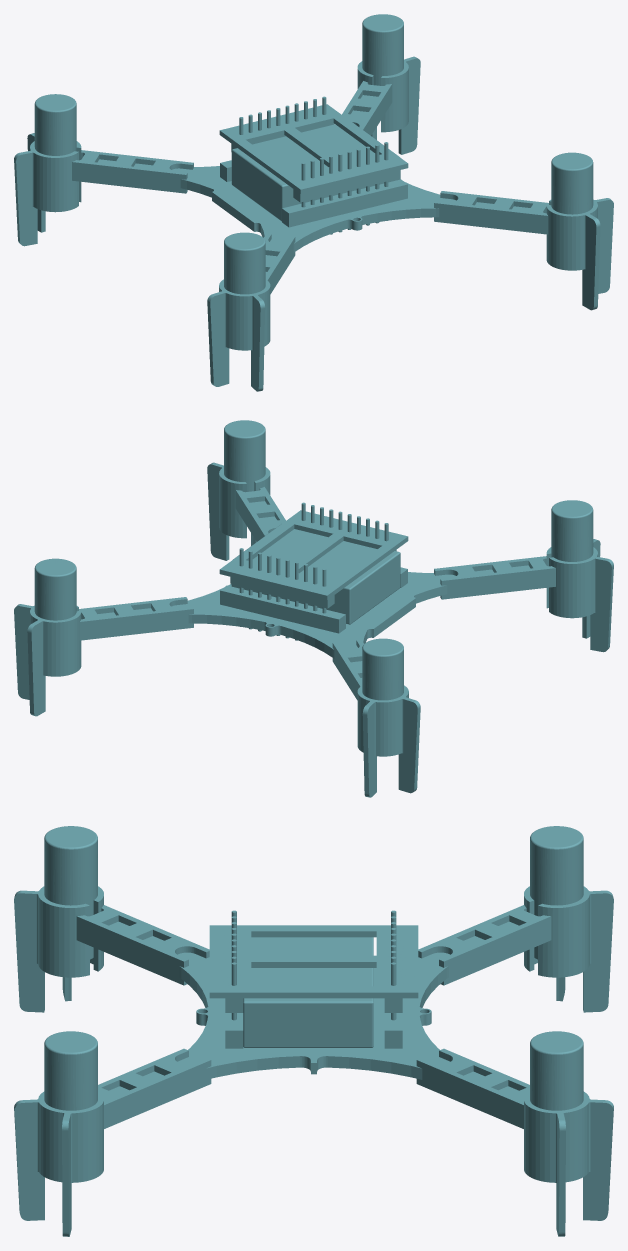
The model's file is crazyflie_base.dae.
The picture shows the model from 3 angles, top to bottom: view 1: azimuth 30°, elevation 25°; view 2: azimuth 150°, elevation 25°; view 3: azimuth 270°, elevation 25°; orthographic projection. The views are drawn at different scales.
Visible parts, largest first — view 1: Crazyflie_assembly1; view 2: Crazyflie_assembly1; view 3: Crazyflie_assembly1.
Part boxes in pixels (left/top/right/bottom): Crazyflie_assembly1: left=14, top=14, right=613, bottom=391; Crazyflie_assembly1: left=14, top=420, right=613, bottom=797; Crazyflie_assembly1: left=14, top=826, right=613, bottom=1236.
Size of the model in its own units: 0.0782 by 0.0782 by 0.0255.
